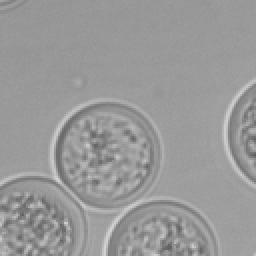picoshell: (50, 98, 162, 212), (0, 172, 86, 254), (102, 196, 218, 254), (222, 78, 254, 188)
